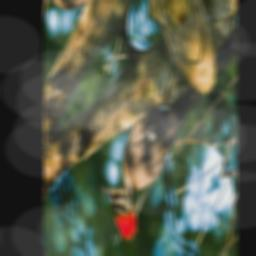Woodpecker: (90, 52, 216, 251)
